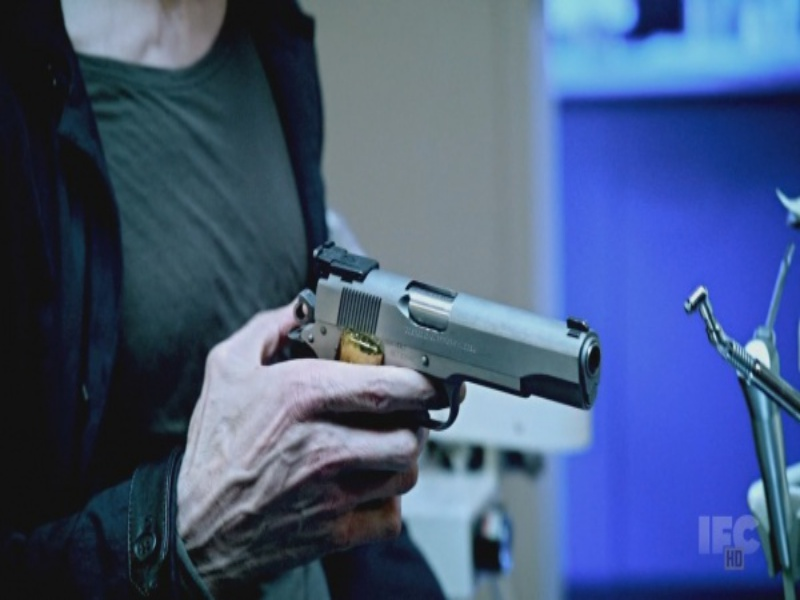person: (1, 1, 444, 595)
weapon: (285, 243, 602, 437)
